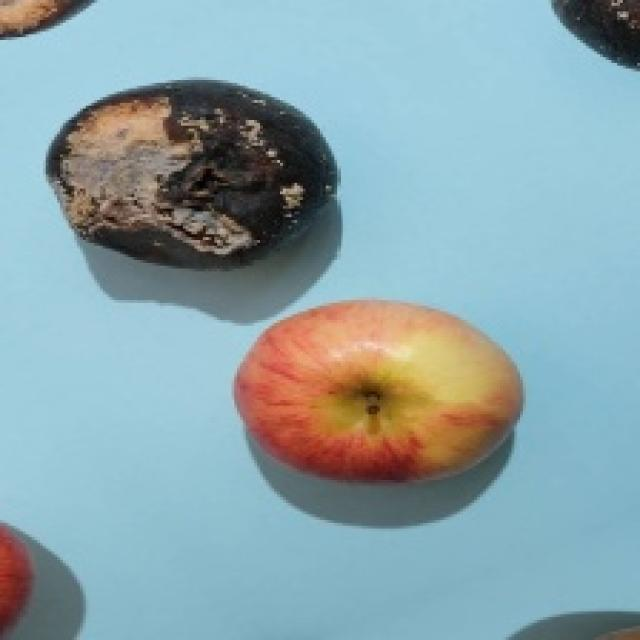100-_ripeness: (232, 296, 528, 485)
rotten_apple: (50, 81, 335, 262)
